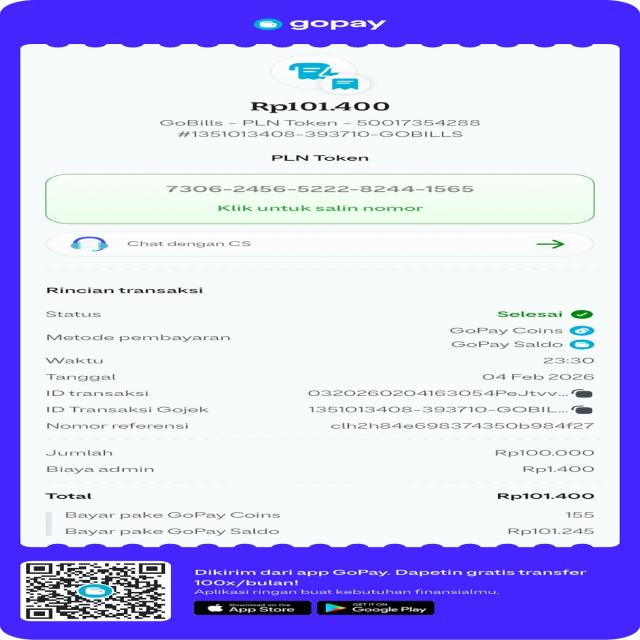date: (475, 372, 600, 383)
store: (265, 153, 374, 165)
total: (43, 491, 599, 502)
